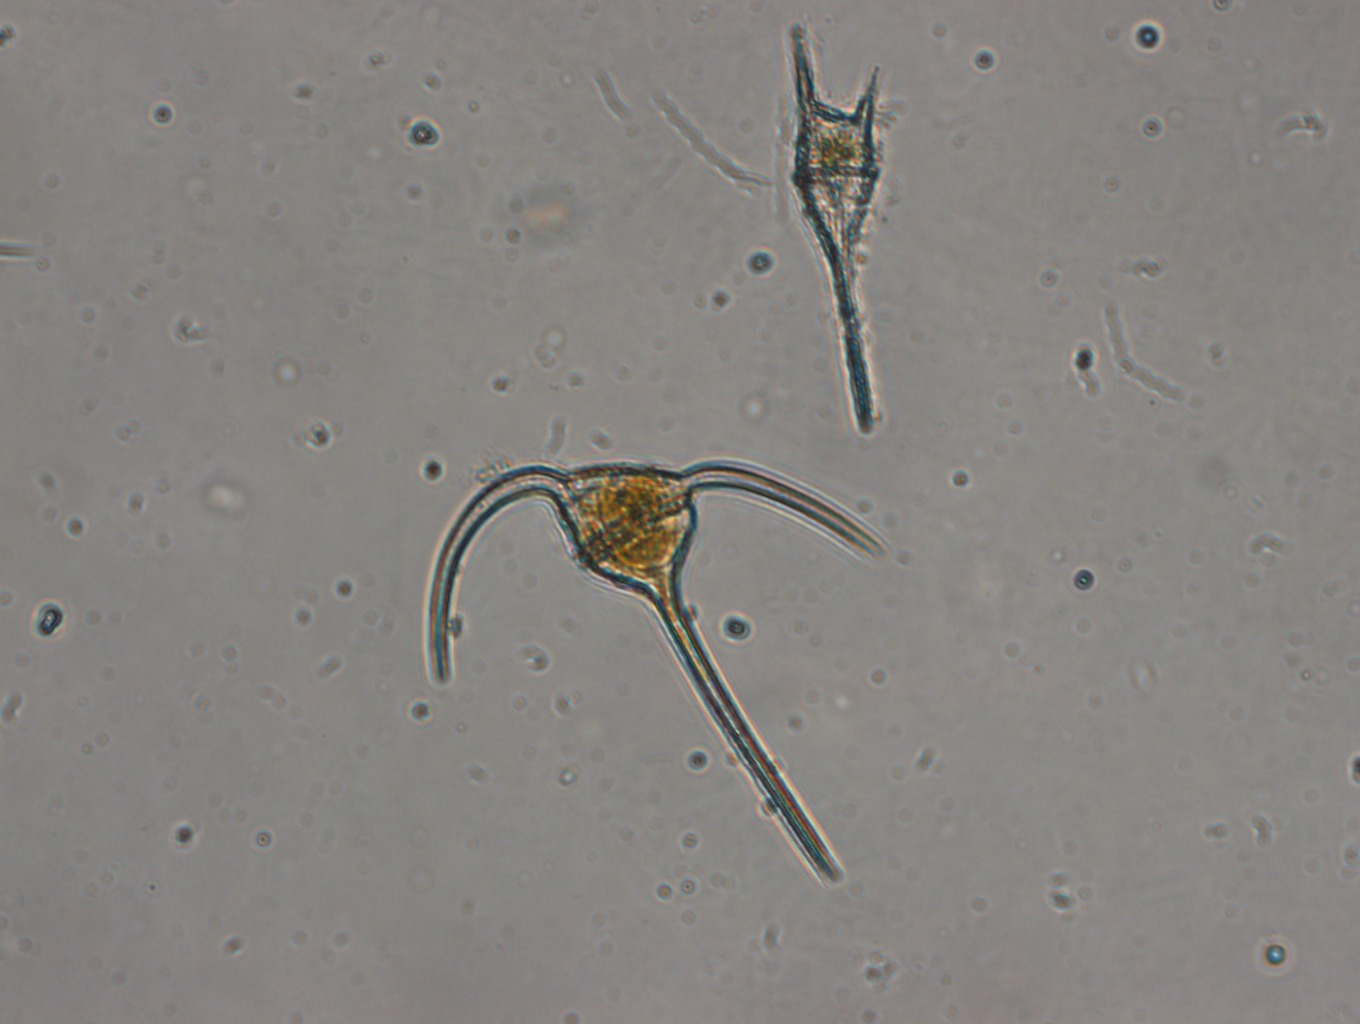ceratium furca: (782, 19, 913, 440)
ceratium trichoceros: (411, 452, 897, 891)
